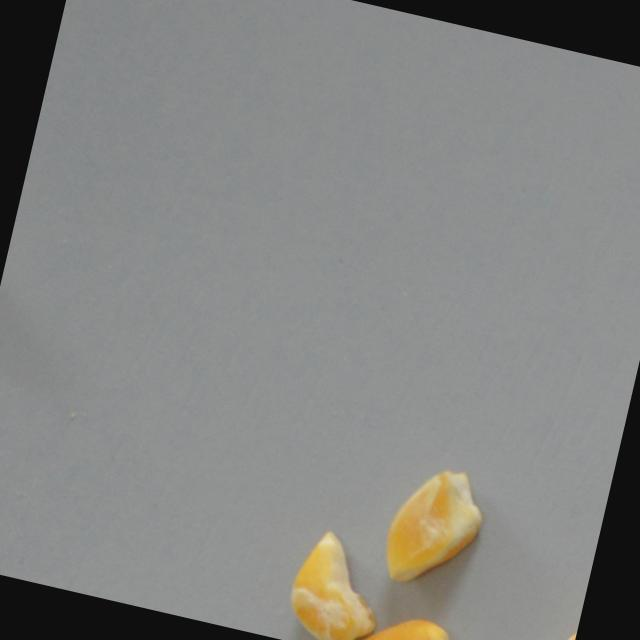dañado: (368, 451, 496, 604), (276, 519, 395, 640), (339, 599, 469, 640), (547, 581, 587, 640)
